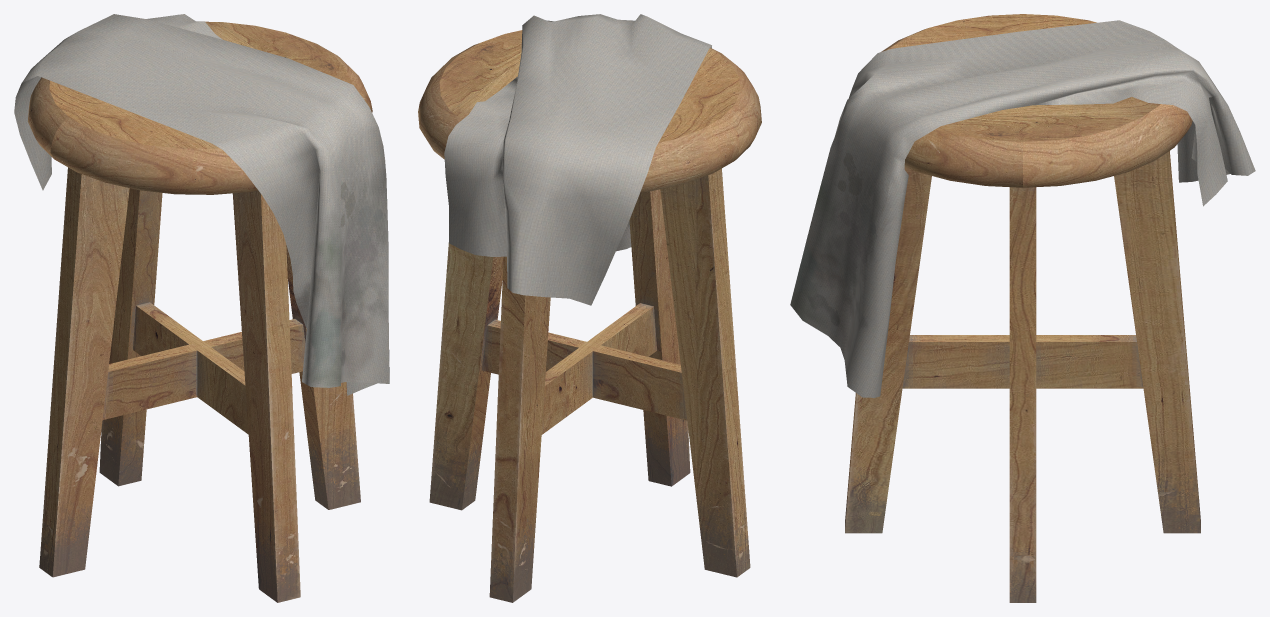
The model's file is RoundedChair1_SM.fbx.
The picture shows the model from 3 angles, left to right: view 1: azimuth 30°, elevation 25°; view 2: azimuth 150°, elevation 25°; view 3: azimuth 270°, elevation 25°; orthographic projection.
Parts seen in each view (by area): view 1: RoundedChair1_SM; view 2: RoundedChair1_SM; view 3: RoundedChair1_SM.
Boxes of the visible parts, left/top/right/bottom form: RoundedChair1_SM: left=14, top=14, right=389, bottom=602; RoundedChair1_SM: left=418, top=14, right=761, bottom=602; RoundedChair1_SM: left=790, top=14, right=1255, bottom=602.
Size of the model in its own units: 36.27 by 52.36 by 47.41.
